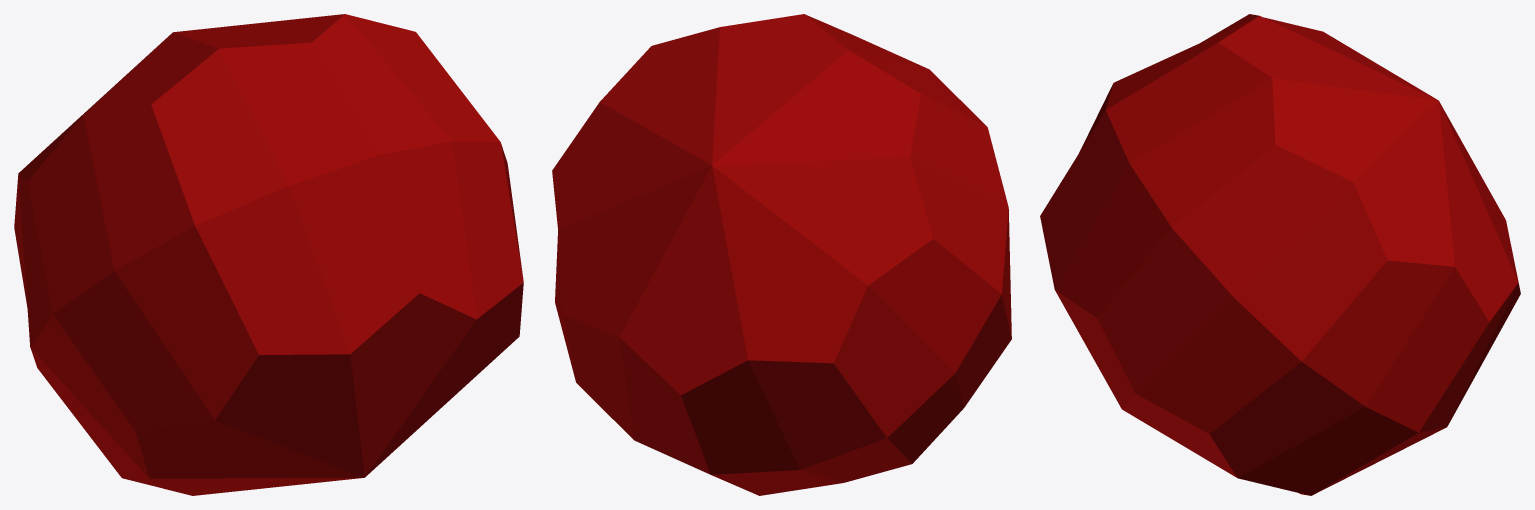
3 views of the same model, side by side, from view 1: azimuth 30°, elevation 25°; view 2: azimuth 150°, elevation 25°; view 3: azimuth 270°, elevation 25° (orthographic). The views are drawn at different scales.
Parts seen in each view (by area): view 1: Cube.006; view 2: Cube.006; view 3: Cube.006.
Boxes of the visible parts, x1=… form: Cube.006: x1=14, y1=14, x2=523, y2=495; Cube.006: x1=552, y1=14, x2=1011, y2=495; Cube.006: x1=1040, y1=14, x2=1520, y2=495.
Size of the model in its own units: 0.00237 by 0.00234 by 0.00235.
